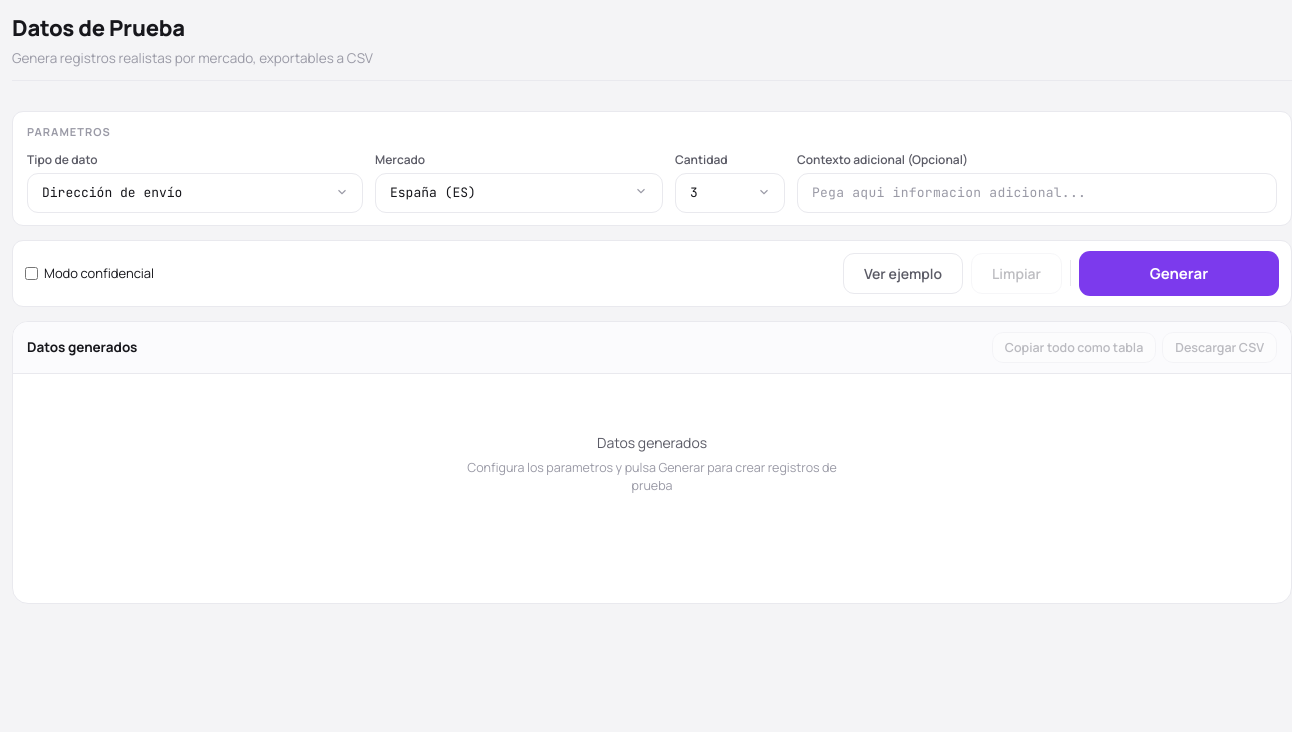
Test: TestDataTool — Limpiar y columnas › la tabla muestra la union de columnas, no solo las de la primera fila
Click the button "Generar" at (1179, 273), box [1079, 251, 1279, 296]
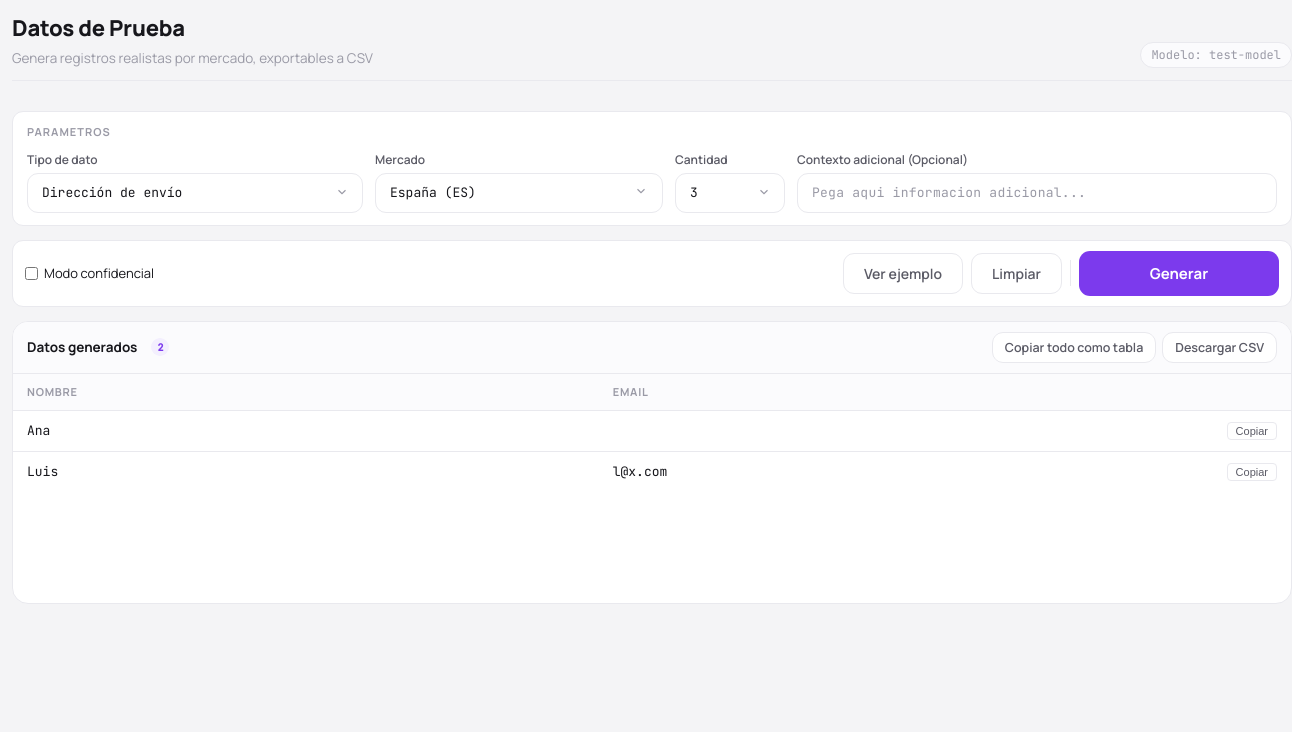
Expected: the text "l@x.com" is shown, [599, 451, 1213, 491]
Expected: the column heading "Email" is shown, [599, 374, 1213, 411]
